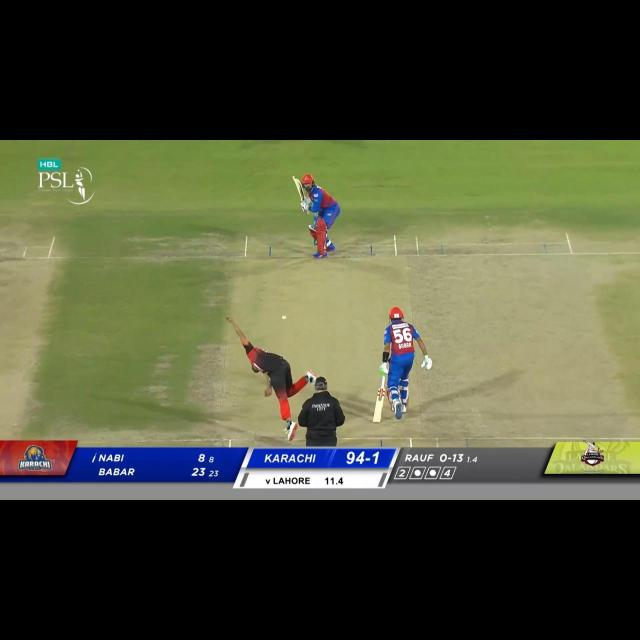bat: (290, 175, 308, 200), (372, 388, 384, 424)
toe: (372, 415, 383, 423), (292, 175, 298, 183)
